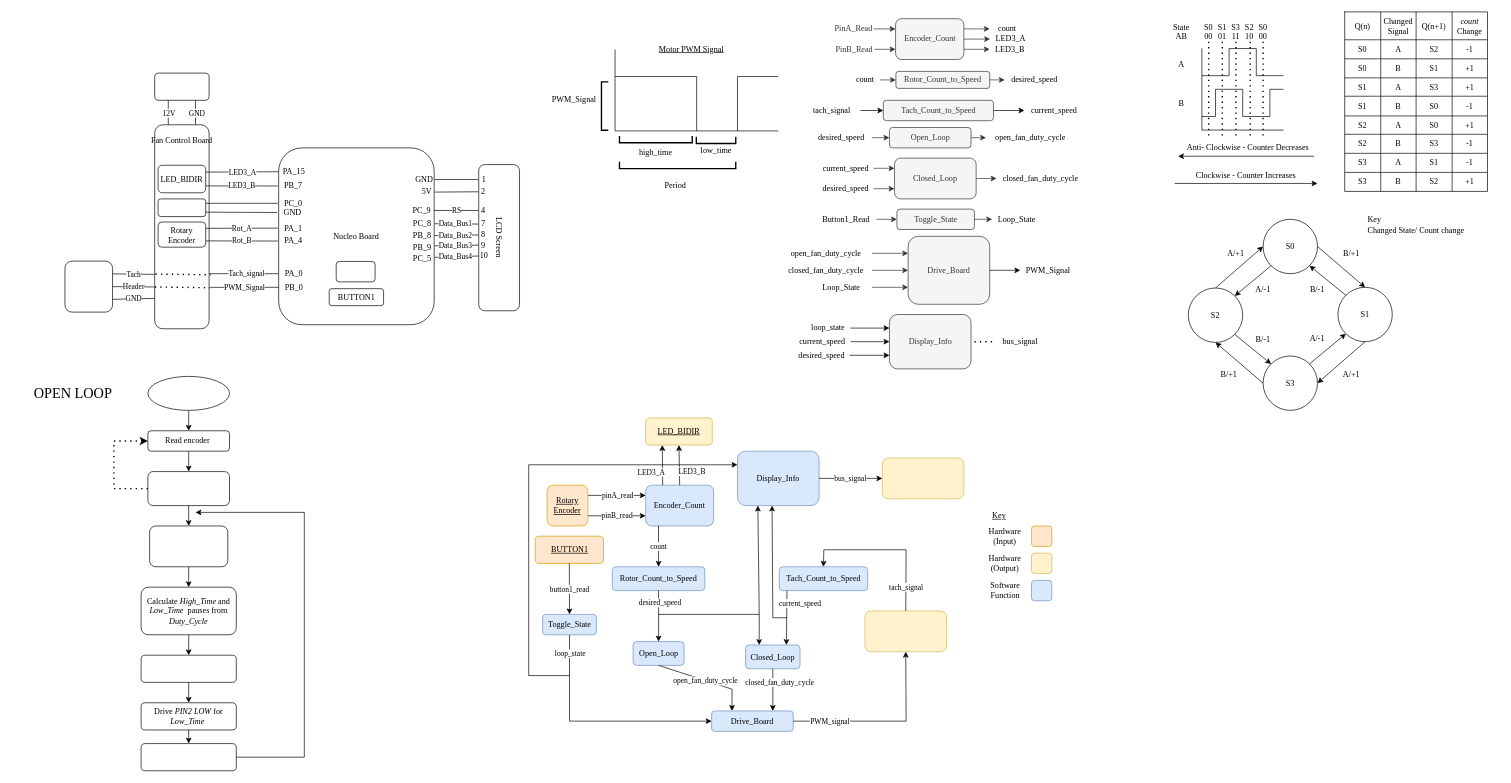
Some shapes in this 1511 by 783 pixel diagram are drawn without their labels. Here are the shapes that lost their labels. From the top down, the centre of each, then its label:
point (181, 86): 12V Power Supply
point (181, 207): LED2
point (88, 286): Fan
point (355, 271): LED1
point (188, 393): START
point (188, 488): Increment/decrement Counter
point (923, 478): LCD Display
point (188, 546): Calculate Duty_Cycle from Counter
point (905, 631): Fan Driver Board
point (188, 668): Drive PIN1 HIGH for Hight_Time
point (188, 757): Wait 5ms
